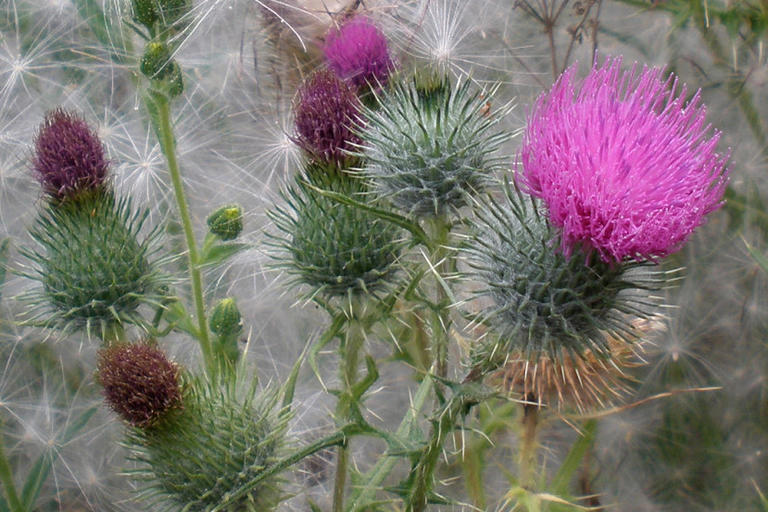bull thistle: (455, 51, 738, 384), (93, 333, 287, 511), (32, 107, 166, 338), (283, 66, 408, 298)
